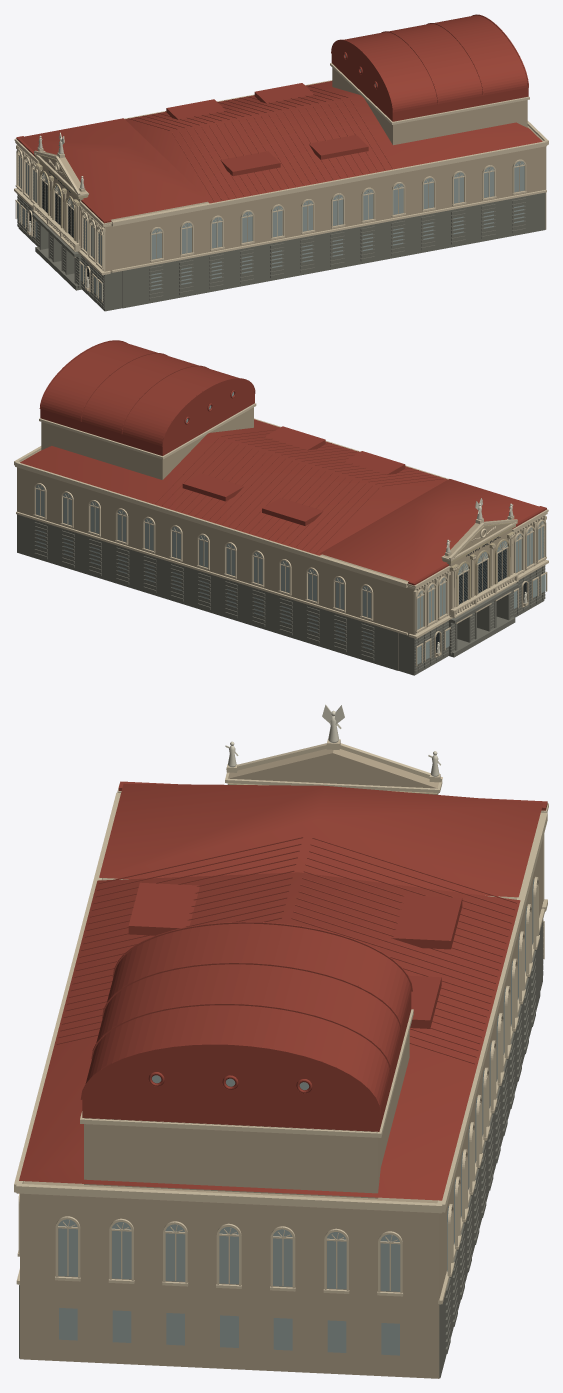
Rendered from teatro-nacional-de-costa-rica-near.glb.
The picture shows the model from 3 angles, top to bottom: view 1: azimuth 30°, elevation 25°; view 2: azimuth 150°, elevation 25°; view 3: azimuth 270°, elevation 25°; orthographic projection. The views are drawn at different scales.
Visible parts, largest first — view 1: teatro-nacional-de-costa-rica-0-roof, teatro-nacional-de-costa-rica-0-stone, teatro-nacional-de-costa-rica-0-rustication, teatro-nacional-de-costa-rica-0-trim, teatro-nacional-de-costa-rica-0-glass, teatro-nacional-de-costa-rica-0-light, teatro-nacional-de-costa-rica-0-iron; view 2: teatro-nacional-de-costa-rica-0-roof, teatro-nacional-de-costa-rica-0-rustication, teatro-nacional-de-costa-rica-0-stone, teatro-nacional-de-costa-rica-0-trim, teatro-nacional-de-costa-rica-0-glass, teatro-nacional-de-costa-rica-0-light, teatro-nacional-de-costa-rica-0-iron; view 3: teatro-nacional-de-costa-rica-0-roof, teatro-nacional-de-costa-rica-0-stone, teatro-nacional-de-costa-rica-0-trim, teatro-nacional-de-costa-rica-0-glass, teatro-nacional-de-costa-rica-0-rustication, teatro-nacional-de-costa-rica-0-sculpture.
Boxes of the visible parts, x1=… form: teatro-nacional-de-costa-rica-0-roof: x1=16, y1=14, x2=542, y2=223; teatro-nacional-de-costa-rica-0-stone: x1=19, y1=68, x2=546, y2=272; teatro-nacional-de-costa-rica-0-rustication: x1=17, y1=192, x2=545, y2=311; teatro-nacional-de-costa-rica-0-trim: x1=14, y1=63, x2=548, y2=302; teatro-nacional-de-costa-rica-0-glass: x1=17, y1=54, x2=524, y2=300; teatro-nacional-de-costa-rica-0-light: x1=35, y1=154, x2=88, y2=240; teatro-nacional-de-costa-rica-0-iron: x1=29, y1=170, x2=90, y2=290; teatro-nacional-de-costa-rica-0-roof: x1=20, y1=340, x2=546, y2=585; teatro-nacional-de-costa-rica-0-rustication: x1=17, y1=514, x2=545, y2=675; teatro-nacional-de-costa-rica-0-stone: x1=17, y1=407, x2=543, y2=670; teatro-nacional-de-costa-rica-0-trim: x1=14, y1=403, x2=548, y2=666; teatro-nacional-de-costa-rica-0-glass: x1=36, y1=392, x2=545, y2=664; teatro-nacional-de-costa-rica-0-light: x1=442, y1=522, x2=515, y2=606; teatro-nacional-de-costa-rica-0-iron: x1=436, y1=536, x2=526, y2=652; teatro-nacional-de-costa-rica-0-roof: x1=19, y1=781, x2=547, y2=1200; teatro-nacional-de-costa-rica-0-stone: x1=20, y1=749, x2=542, y2=1378; teatro-nacional-de-costa-rica-0-trim: x1=14, y1=739, x2=548, y2=1304; teatro-nacional-de-costa-rica-0-glass: x1=58, y1=879, x2=534, y2=1355; teatro-nacional-de-costa-rica-0-rustication: x1=19, y1=919, x2=543, y2=1378; teatro-nacional-de-costa-rica-0-sculpture: x1=225, y1=704, x2=440, y2=776.
Size of the model in its own units: 74.08 by 26.11 by 39.58.
